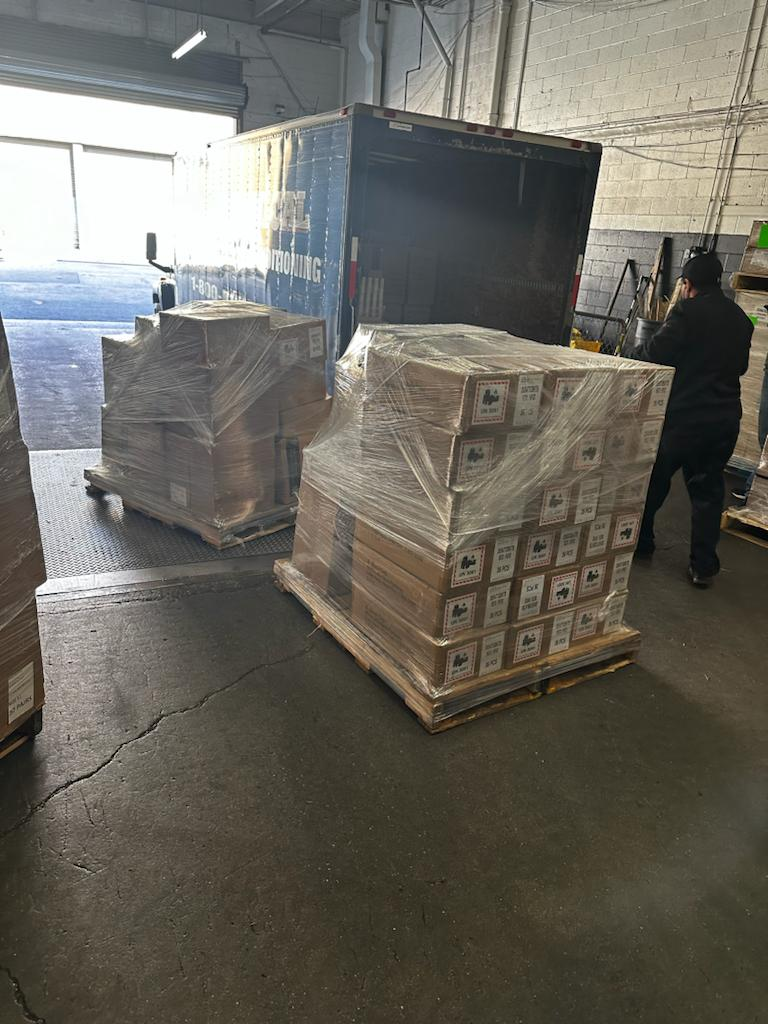box: (367, 349, 555, 451), (361, 582, 523, 691), (339, 536, 524, 629), (361, 448, 529, 539), (137, 424, 267, 519), (164, 361, 293, 441), (184, 298, 264, 376)
